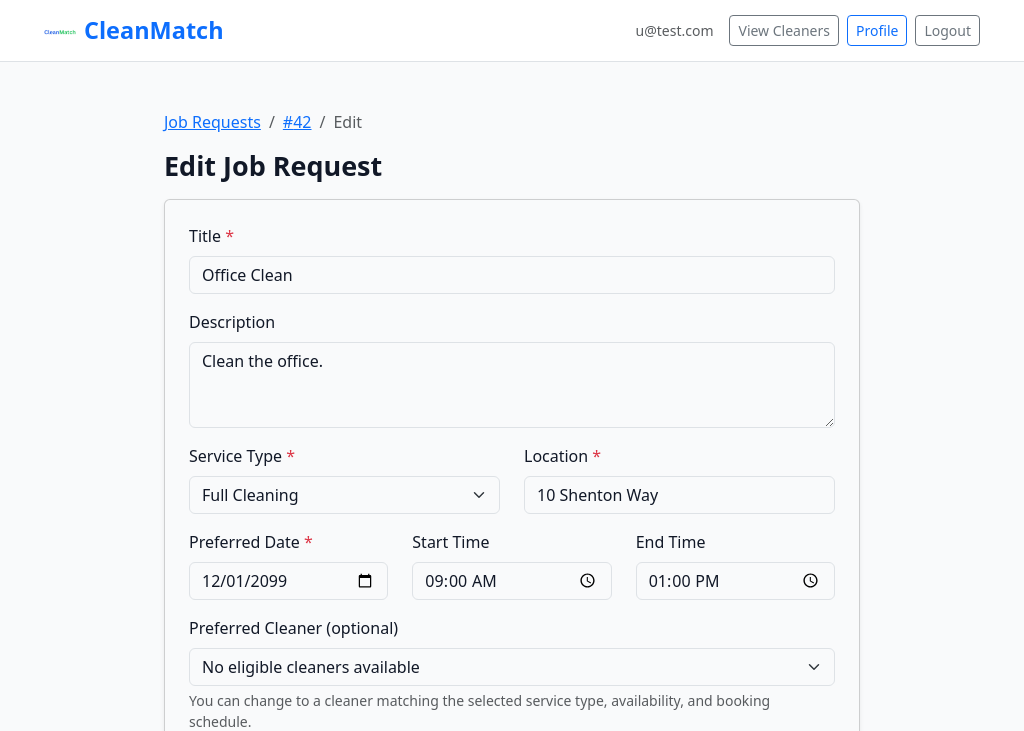
EditJobRequestPage › shows service type validation error when service type is cleared
Select "Select type..." in the dropdown below "Location". click: (344, 494)
box: [189, 476, 500, 514]
(page scrolled)
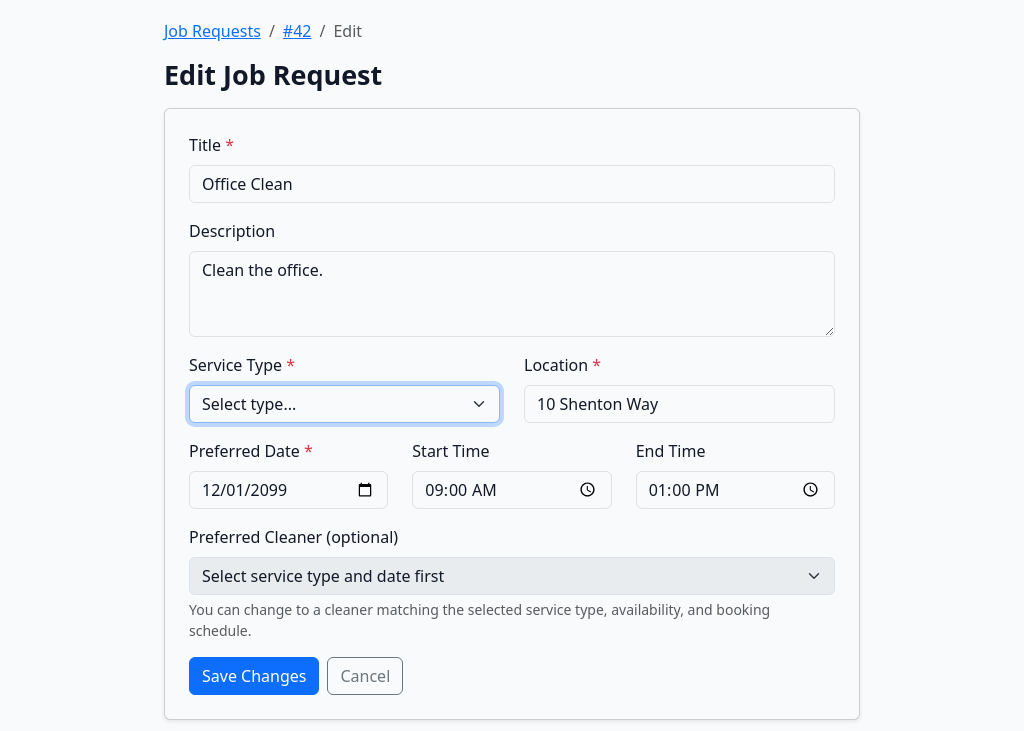
Submit the form, box [164, 108, 860, 720]
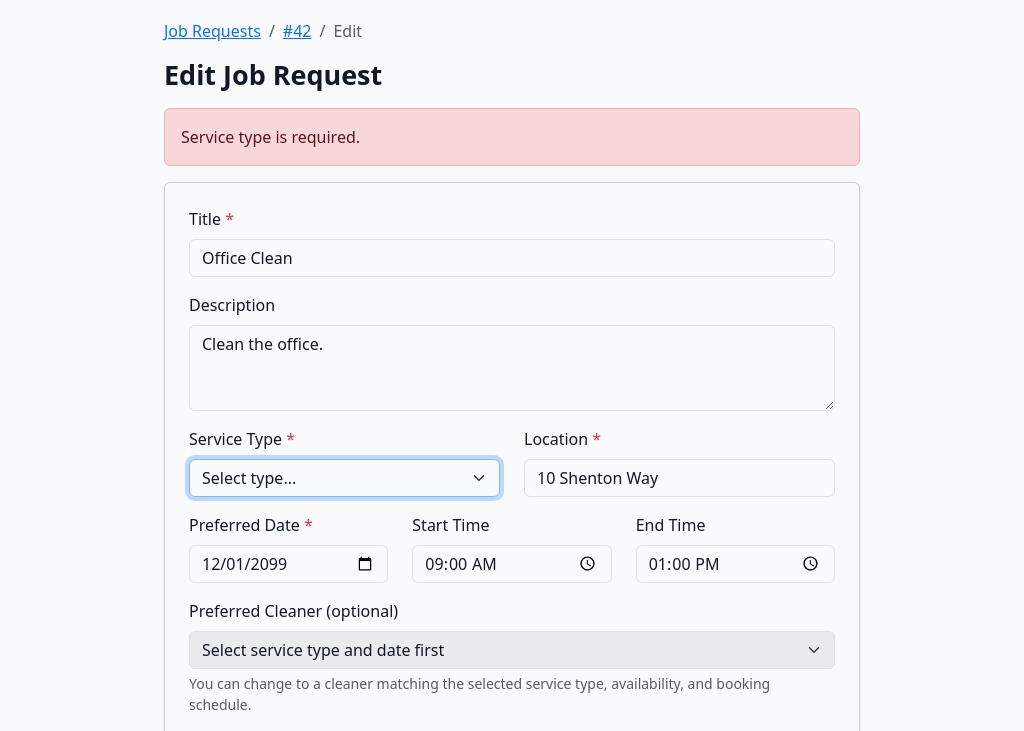
Check: the text "Service type is required." is shown, box [164, 108, 860, 166]
